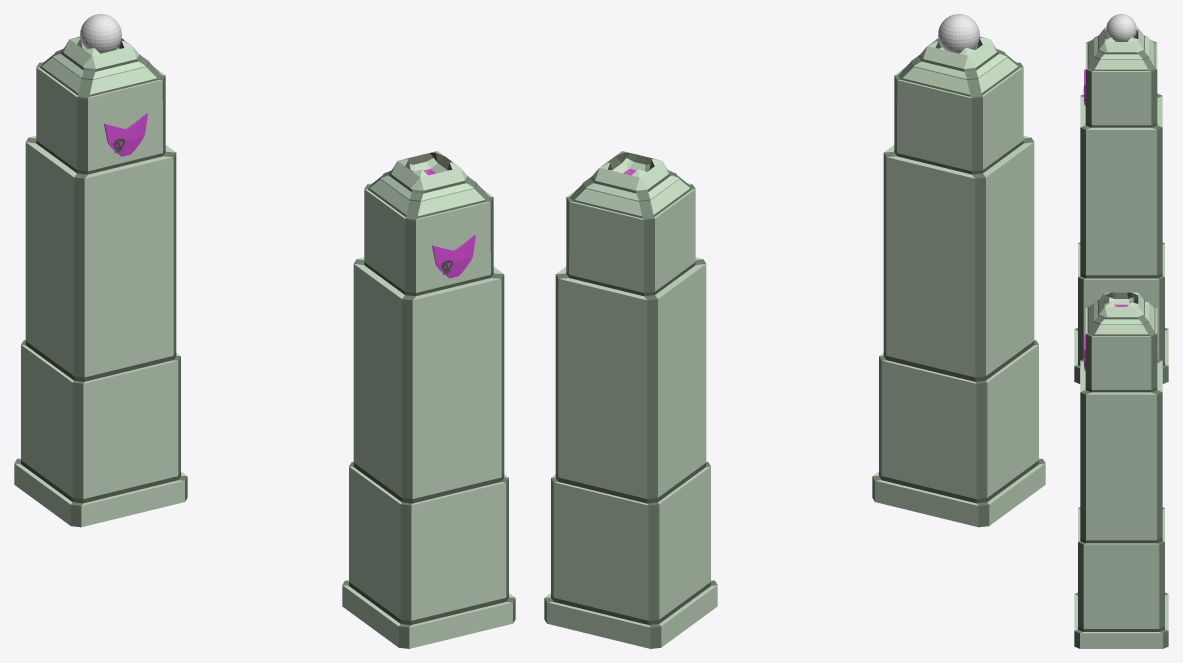
Rendered from side.fbx.
The picture shows the model from 3 angles, left to right: view 1: azimuth 30°, elevation 25°; view 2: azimuth 150°, elevation 25°; view 3: azimuth 270°, elevation 25°; orthographic projection. The views are drawn at different scales.
Parts seen in each view (by area): view 1: 立方体.002, 立方体.001, 球体; view 2: 立方体.002, 立方体.001, 球体; view 3: 立方体.002, 立方体.001, 球体.
Part boxes in pixels (box(x1,y1,x2,y2)): 立方体.002: box(342, 151, 515, 648); 立方体.001: box(14, 36, 187, 527); 球体: box(80, 14, 121, 53); 立方体.002: box(544, 151, 717, 648); 立方体.001: box(872, 36, 1045, 527); 球体: box(938, 14, 979, 53); 立方体.002: box(1074, 292, 1168, 648); 立方体.001: box(1074, 27, 1168, 383); 球体: box(1106, 14, 1136, 41).
Bounding box in the file's own units: 2453 × 3566 × 615.
